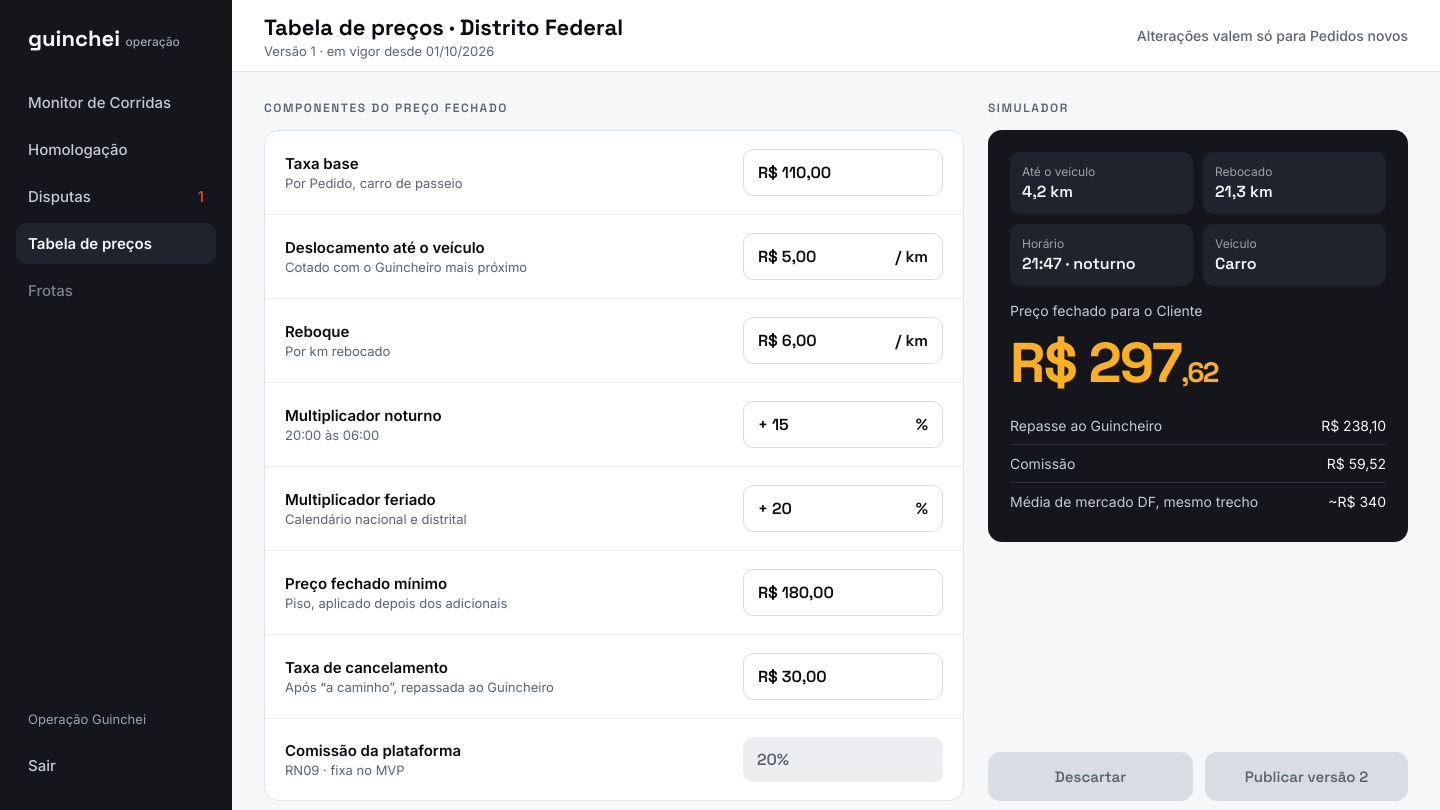
Scenario: App painel › recusa valor sem dígitos e não deixa publicar
Expected: the navigation bar named "Painel de operação" is shown, [0,0,232,809]
Replace the text in the field named "Reboque" with "7,00" at (836, 340), box [782,330,891,351]
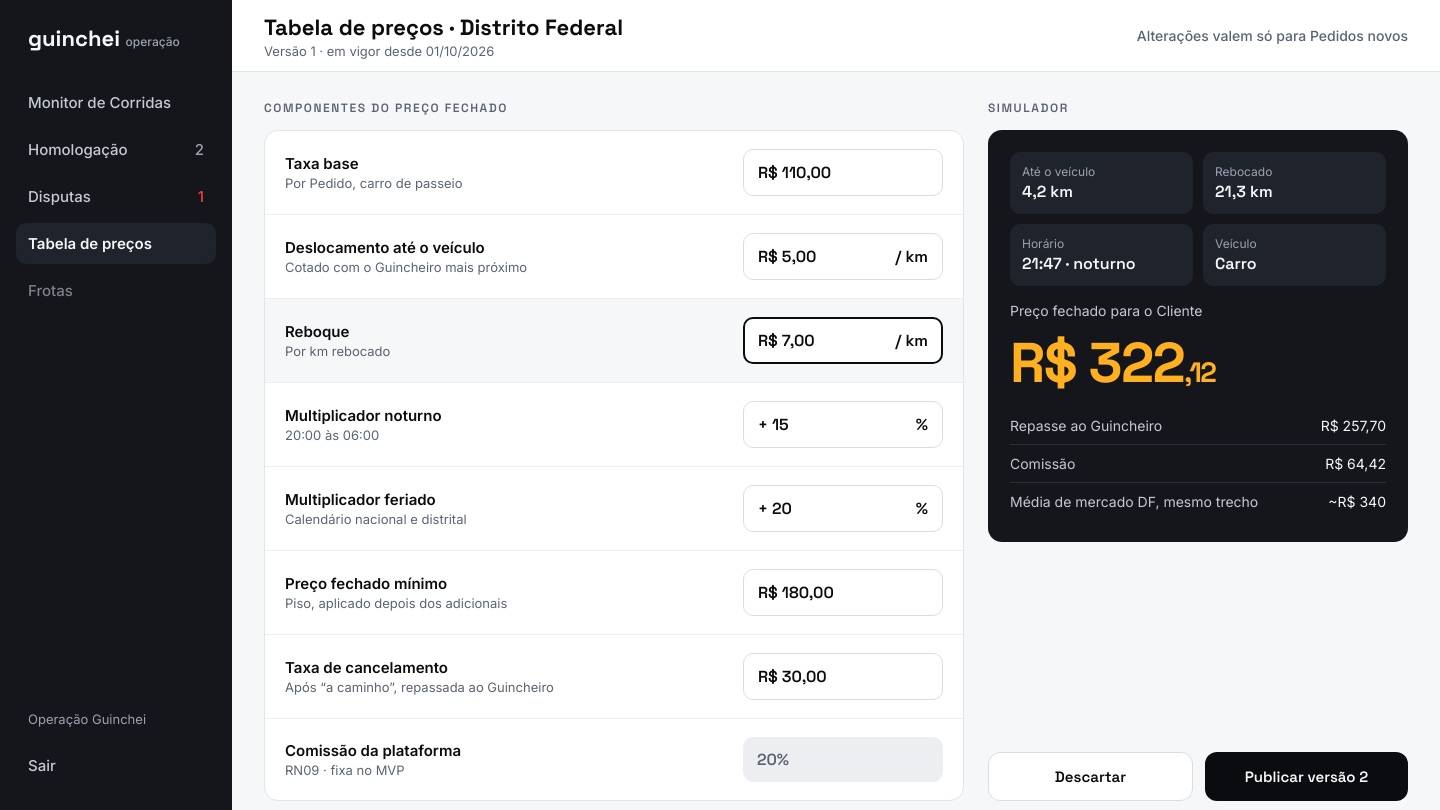
Replace the text in the field named "Reboque" with "abc" at (836, 340), box [782,330,891,351]
(page scrolled)
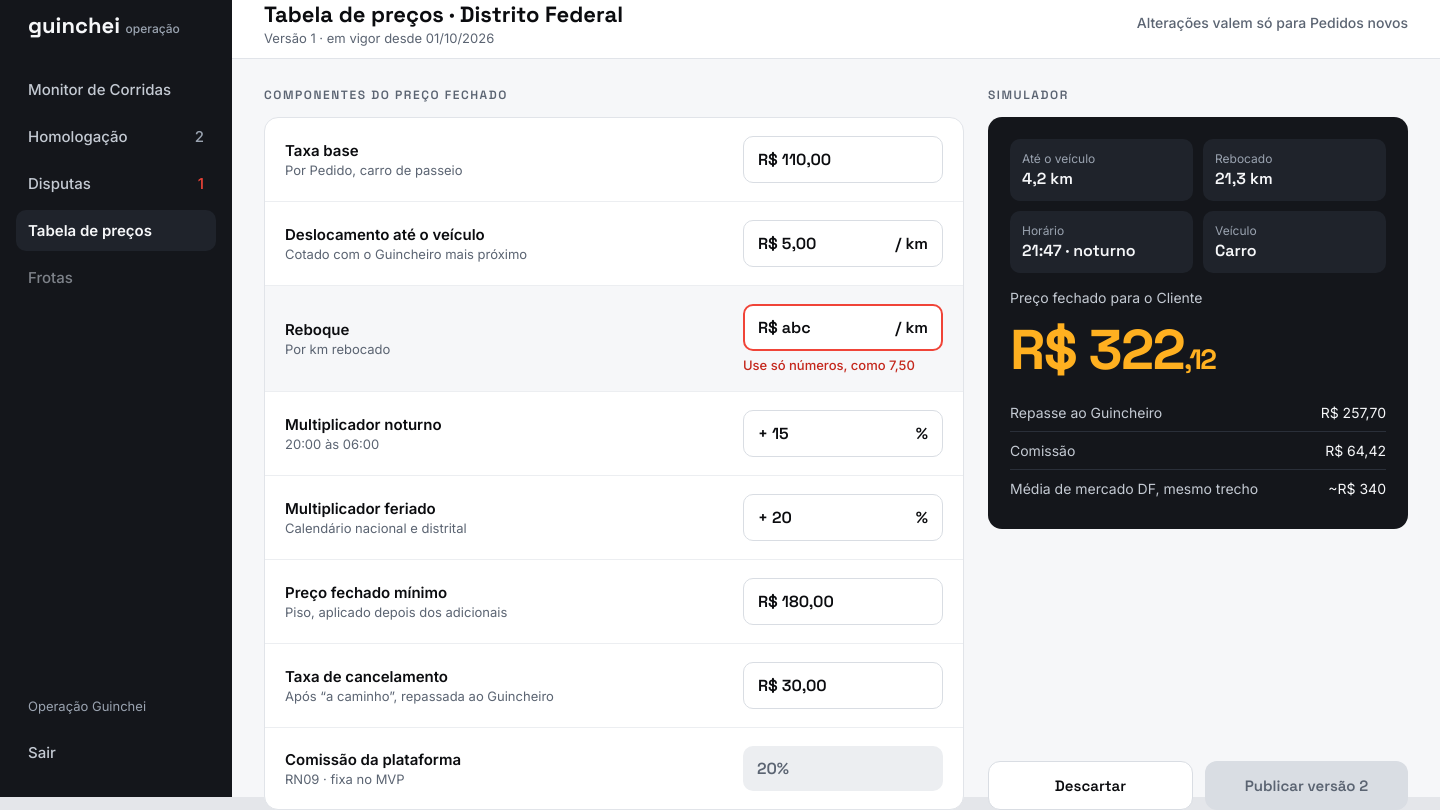
Result: the text "R$ 322" is shown at [1010,314,1184,385]
Result: the text "Use só números, como 7,50" is shown at [743,357,943,373]
Result: the button "Publicar versão 2" is disabled at [1205,761,1408,809]
